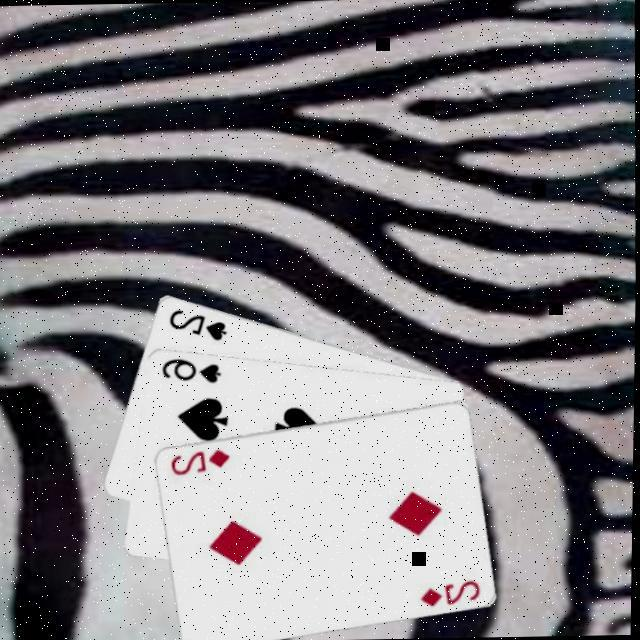2D: (168, 447, 234, 479), (420, 578, 486, 610)
2S: (166, 306, 231, 345)
6S: (160, 356, 226, 388)
